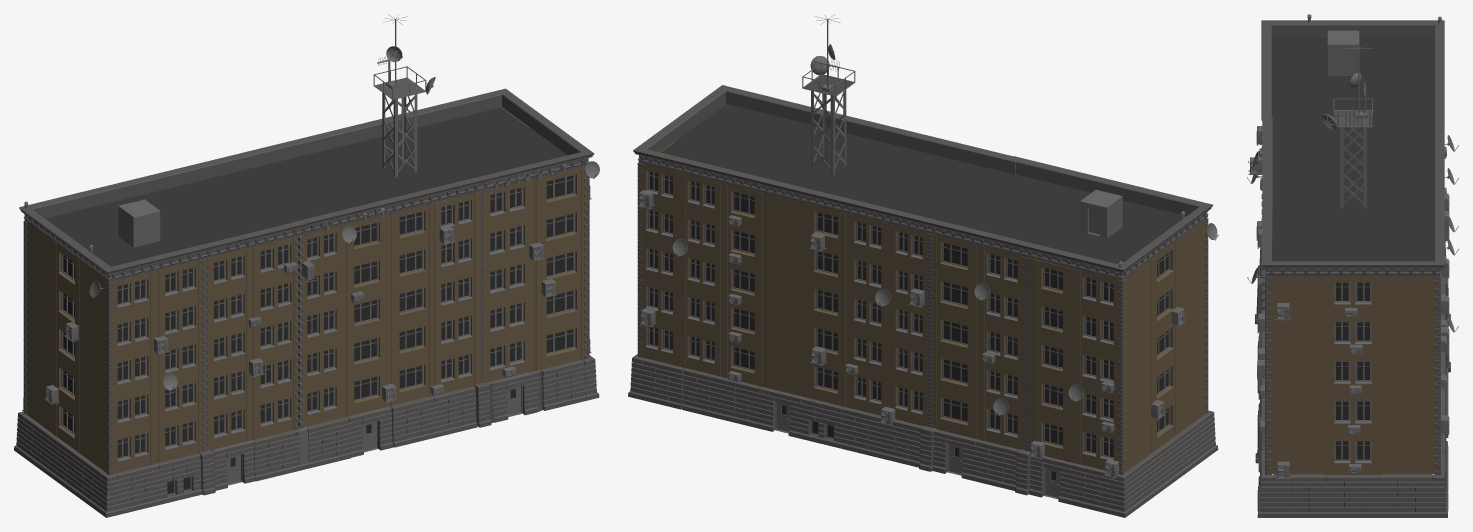
File: completedHouse01.fbx
3 renders of one model, left to right at view 1: azimuth 30°, elevation 25°; view 2: azimuth 150°, elevation 25°; view 3: azimuth 270°, elevation 25°, orthographic. The views are drawn at different scales.
Visible parts, largest first — view 1: building_base, antenna_big.001, ground_floor_wall_01.006, middle_floor_wall_02.063, middle_floor_wall_03.038, middle_floor_wall_02.064, middle_floor_wall_03.034, middle_floor_wall_02, middle_floor_wall_02.065, middle_floor_wall_03.037, middle_floor_wall_03.035, middle_floor_wall_02.020 (+91 smaller); view 2: building_base, antenna_big.001, middle_floor_wall_03.058, middle_floor_wall_03.023, middle_floor_wall_03.026, middle_floor_wall_03.029, middle_floor_wall_03.006, middle_floor_wall_03.009, middle_floor_wall_03.008, middle_floor_wall_03.010, ground_floor_wall_01.001, middle_floor_wall_02.037 (+97 smaller); view 3: building_base, antenna_big.001, ground_floor_wall_02.001, ground_floor_wall_02.018, ground_floor_wall_02.002, middle_floor_wall_02.032, middle_floor_wall_02.026, middle_floor_wall_02.028, middle_floor_wall_02.024, middle_floor_wall_02.030, middle_floor_wall_01.022, middle_floor_wall_01.023 (+29 smaller).
Boxes of the visible parts, x1=… form: building_base: x1=45, y1=107, x2=568, y2=266; antenna_big.001: x1=373, y1=14, x2=435, y2=177; ground_floor_wall_01.006: x1=488, y1=370, x2=542, y2=422; middle_floor_wall_02.063: x1=482, y1=294, x2=534, y2=344; middle_floor_wall_03.038: x1=534, y1=320, x2=586, y2=370; middle_floor_wall_02.064: x1=482, y1=257, x2=534, y2=306; middle_floor_wall_03.034: x1=534, y1=166, x2=586, y2=216; middle_floor_wall_02: x1=482, y1=179, x2=534, y2=229; middle_floor_wall_02.065: x1=482, y1=217, x2=534, y2=267; middle_floor_wall_03.037: x1=534, y1=282, x2=586, y2=332; middle_floor_wall_03.035: x1=534, y1=205, x2=586, y2=253; middle_floor_wall_02.020: x1=482, y1=332, x2=534, y2=382; building_base: x1=661, y1=104, x2=1186, y2=264; antenna_big.001: x1=802, y1=14, x2=855, y2=175; middle_floor_wall_03.058: x1=1026, y1=257, x2=1075, y2=308; middle_floor_wall_03.023: x1=1026, y1=296, x2=1075, y2=347; middle_floor_wall_03.026: x1=1026, y1=335, x2=1075, y2=385; middle_floor_wall_03.029: x1=1026, y1=374, x2=1075, y2=424; middle_floor_wall_03.006: x1=931, y1=234, x2=977, y2=284; middle_floor_wall_03.009: x1=931, y1=351, x2=977, y2=400; middle_floor_wall_03.008: x1=931, y1=312, x2=977, y2=361; middle_floor_wall_03.010: x1=931, y1=389, x2=977, y2=439; ground_floor_wall_01.001: x1=932, y1=429, x2=977, y2=480; middle_floor_wall_02.037: x1=978, y1=245, x2=1024, y2=295; building_base: x1=1271, y1=37, x2=1434, y2=261; antenna_big.001: x1=1322, y1=42, x2=1373, y2=208; ground_floor_wall_02.001: x1=1379, y1=474, x2=1432, y2=517; ground_floor_wall_02.018: x1=1326, y1=475, x2=1379, y2=517; ground_floor_wall_02.002: x1=1273, y1=474, x2=1326, y2=517; middle_floor_wall_02.032: x1=1324, y1=276, x2=1381, y2=316; middle_floor_wall_02.026: x1=1324, y1=395, x2=1381, y2=435; middle_floor_wall_02.028: x1=1324, y1=356, x2=1381, y2=395; middle_floor_wall_02.024: x1=1324, y1=435, x2=1381, y2=474; middle_floor_wall_02.030: x1=1324, y1=316, x2=1381, y2=355; middle_floor_wall_01.022: x1=1382, y1=315, x2=1434, y2=355; middle_floor_wall_01.023: x1=1382, y1=434, x2=1434, y2=474.
Size of the model in its own units: 4104 by 2968 by 1450.
